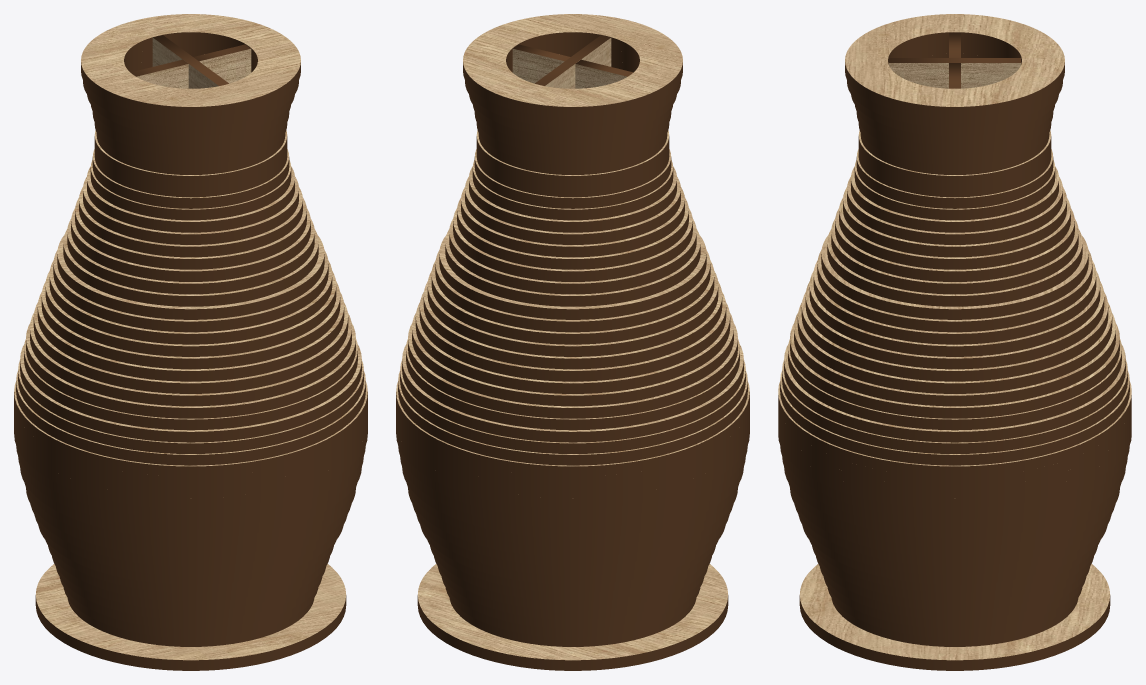
File: ring-vase.glb
The picture shows the model from 3 angles, left to right: view 1: azimuth 30°, elevation 25°; view 2: azimuth 150°, elevation 25°; view 3: azimuth 270°, elevation 25°; orthographic projection.
Parts seen in each view (by area): view 1: body50, body0, body21, body17, body15, body29, body13, body25, body23, body11, body19, body30 (+41 smaller); view 2: body50, body0, body21, body17, body15, body29, body13, body25, body23, body11, body19, body30 (+41 smaller); view 3: body50, body0, body21, body17, body15, body29, body13, body25, body23, body11, body19, body30 (+41 smaller).
Part boxes in pixels (<box>): body50: <box>81,14,300,117</box>; body0: <box>35,564,346,670</box>; body21: <box>20,344,361,442</box>; body17: <box>26,323,355,418</box>; body15: <box>30,312,351,406</box>; body29: <box>14,382,367,476</box>; body13: <box>33,302,348,393</box>; body25: <box>16,371,365,465</box>; body23: <box>18,360,363,453</box>; body11: <box>37,292,344,381</box>; body19: <box>24,339,357,430</box>; body30: <box>41,281,340,369</box>; body50: <box>463,14,682,117</box>; body0: <box>417,564,728,670</box>; body21: <box>402,344,743,442</box>; body17: <box>408,323,737,418</box>; body15: <box>412,312,733,406</box>; body29: <box>396,382,749,476</box>; body13: <box>415,302,730,393</box>; body25: <box>398,371,747,465</box>; body23: <box>400,360,745,453</box>; body11: <box>419,292,726,381</box>; body19: <box>406,339,739,430</box>; body30: <box>423,281,722,369</box>; body50: <box>845,14,1064,117</box>; body0: <box>799,564,1110,670</box>; body21: <box>784,344,1125,442</box>; body17: <box>790,323,1119,418</box>; body15: <box>794,312,1115,406</box>; body29: <box>778,382,1131,476</box>; body13: <box>797,302,1112,393</box>; body25: <box>780,371,1129,465</box>; body23: <box>782,360,1127,453</box>; body11: <box>801,292,1108,381</box>; body19: <box>788,339,1121,430</box>; body30: <box>805,281,1104,369</box>.
Size of the model in its own units: 0.09 by 0.153 by 0.09.
2 materials, 1 textured.
